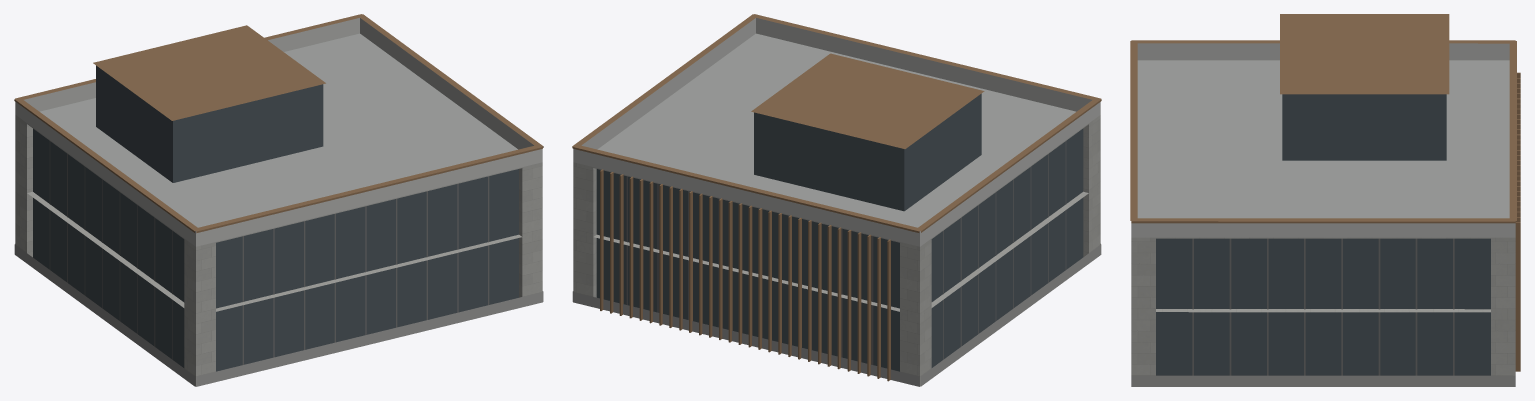
The picture shows the model from 3 angles, left to right: view 1: azimuth 30°, elevation 25°; view 2: azimuth 150°, elevation 25°; view 3: azimuth 270°, elevation 25°; orthographic projection. The views are drawn at different scales.
Parts seen in each view (by area): view 1: wisdomA__glass, wisdomA__roof, wisdomA__trim, wisdomA__parapet, wisdomA__wall, wisdomA__base, wisdomA__frame; view 2: wisdomA__glass, wisdomA__trim, wisdomA__roof, wisdomA__parapet, wisdomA__wall, wisdomA__base, wisdomA__frame; view 3: wisdomA__glass, wisdomA__roof, wisdomA__trim, wisdomA__parapet, wisdomA__wall, wisdomA__base, wisdomA__frame.
Boxes of the visible parts, bbox=[...] form: wisdomA__glass: bbox=[33, 65, 518, 371]; wisdomA__roof: bbox=[40, 33, 517, 227]; wisdomA__trim: bbox=[14, 14, 543, 233]; wisdomA__parapet: bbox=[15, 18, 542, 246]; wisdomA__wall: bbox=[15, 115, 542, 386]; wisdomA__base: bbox=[14, 244, 543, 386]; wisdomA__frame: bbox=[49, 141, 489, 364]; wisdomA__glass: bbox=[596, 93, 1083, 371]; wisdomA__trim: bbox=[572, 14, 1101, 381]; wisdomA__roof: bbox=[597, 33, 1075, 227]; wisdomA__parapet: bbox=[573, 18, 1100, 246]; wisdomA__wall: bbox=[573, 115, 1100, 386]; wisdomA__base: bbox=[572, 244, 1101, 386]; wisdomA__frame: bbox=[626, 141, 1066, 364]; wisdomA__glass: bbox=[1156, 94, 1490, 375]; wisdomA__roof: bbox=[1137, 60, 1509, 218]; wisdomA__trim: bbox=[1130, 14, 1520, 371]; wisdomA__parapet: bbox=[1131, 43, 1515, 237]; wisdomA__wall: bbox=[1131, 237, 1515, 375]; wisdomA__base: bbox=[1131, 375, 1515, 386]; wisdomA__frame: bbox=[1192, 238, 1454, 375].
Size of the model in its own units: 20.88 by 11.63 by 19.02.
7 materials, 1 textured.
